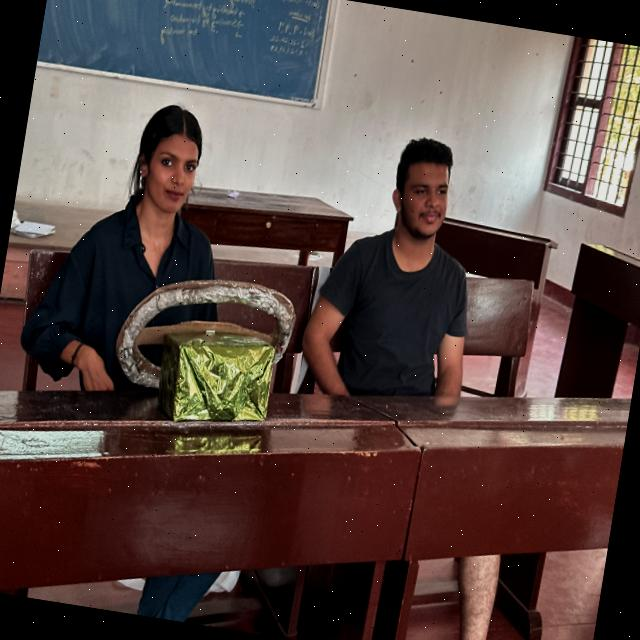Helmet: (8, 198, 238, 416), (278, 236, 490, 436)
